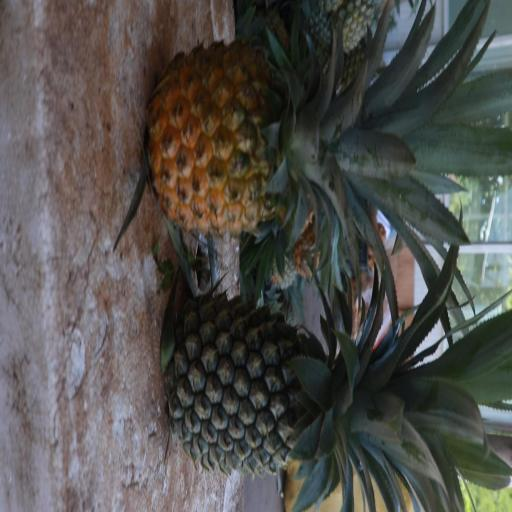Pineapple - v8 v1: (153, 50, 455, 233)
